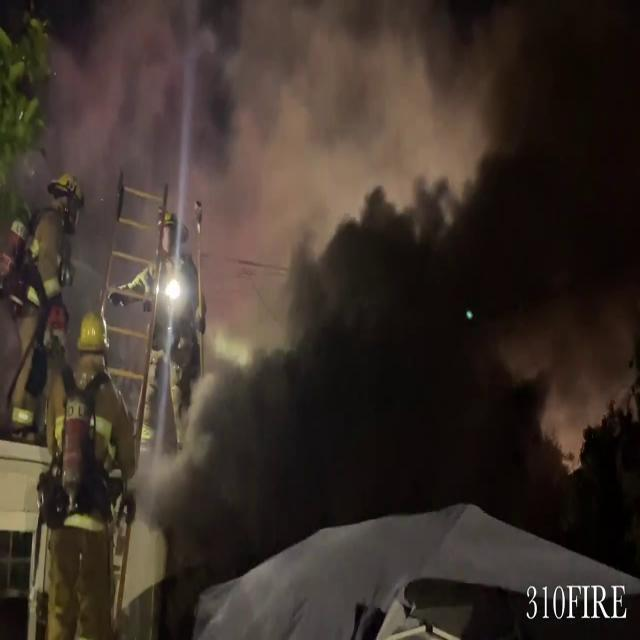Smoke: (34, 0, 638, 300)
